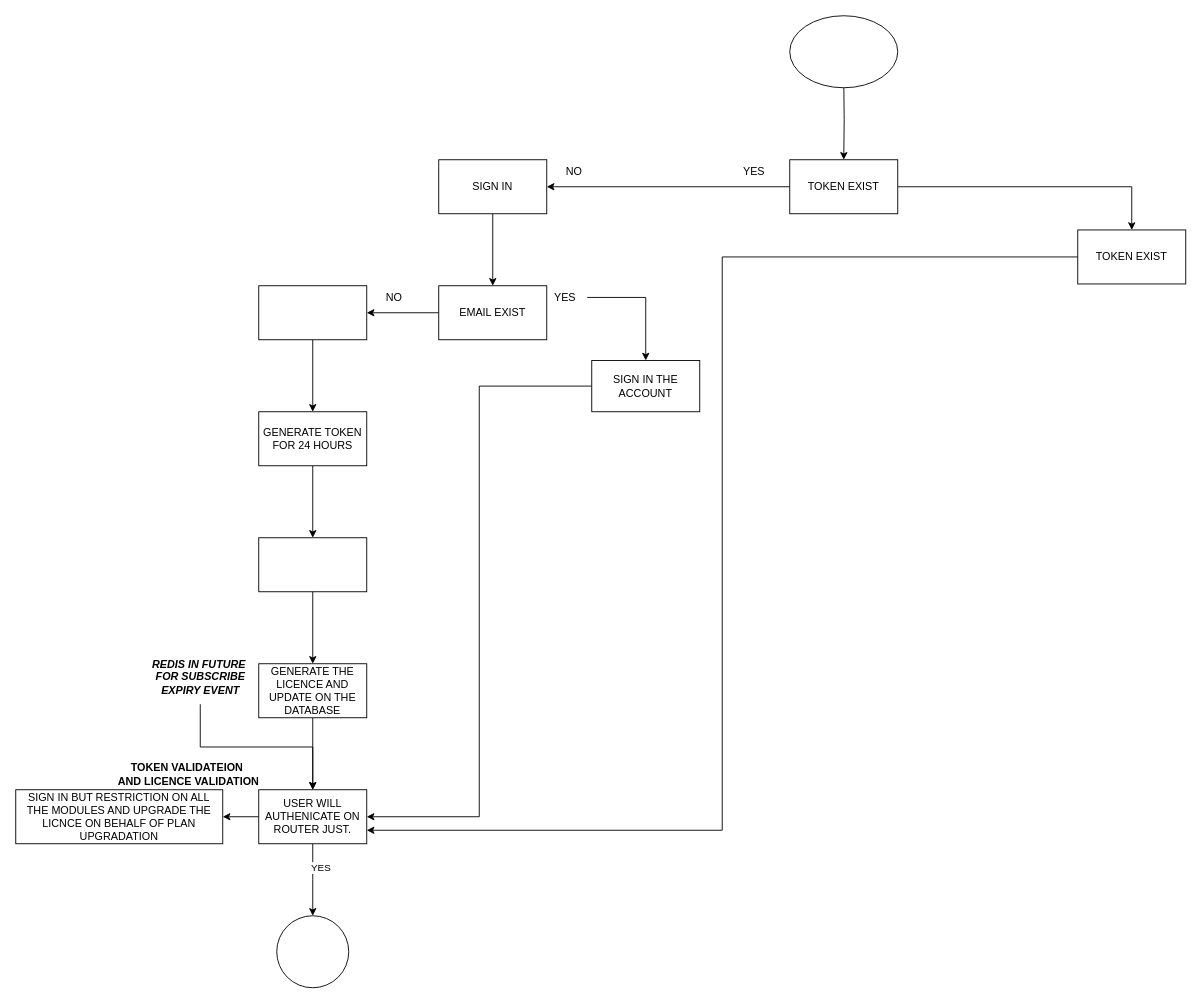
The diagram is 1202 pixels wide and 1004 high, and some of its shapes have lost their labels. The centre of each missing label's shape, as x and y in pixels:
END: the point at 312,951
SIGN UP ACCOUNT: the point at 312,312
START: the point at 843,51
USER WILL SELECT THE PLAN: the point at 312,564
